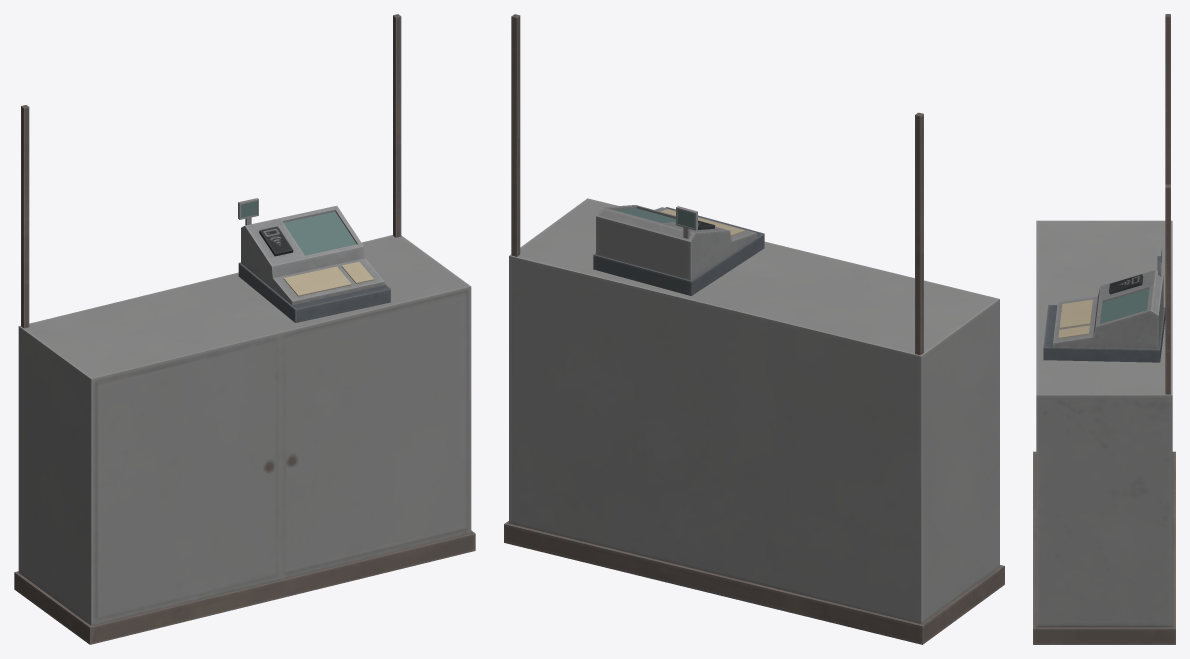
Rendered from SM_Props_Interior_04.glb.
The picture shows the model from 3 angles, left to right: view 1: azimuth 30°, elevation 25°; view 2: azimuth 150°, elevation 25°; view 3: azimuth 270°, elevation 25°; orthographic projection. The views are drawn at different scales.
Parts seen in each view (by area): view 1: SM_Props_Interior_04; view 2: SM_Props_Interior_04; view 3: SM_Props_Interior_04.
Boxes of the visible parts, x1,y1,x2,y2 form: SM_Props_Interior_04: [14, 14, 475, 644]; SM_Props_Interior_04: [504, 14, 1004, 644]; SM_Props_Interior_04: [1033, 14, 1175, 644].
Size of the model in its own units: 1.53 by 1.84 by 0.5211.
Materials: 1 (1 with a texture image).
